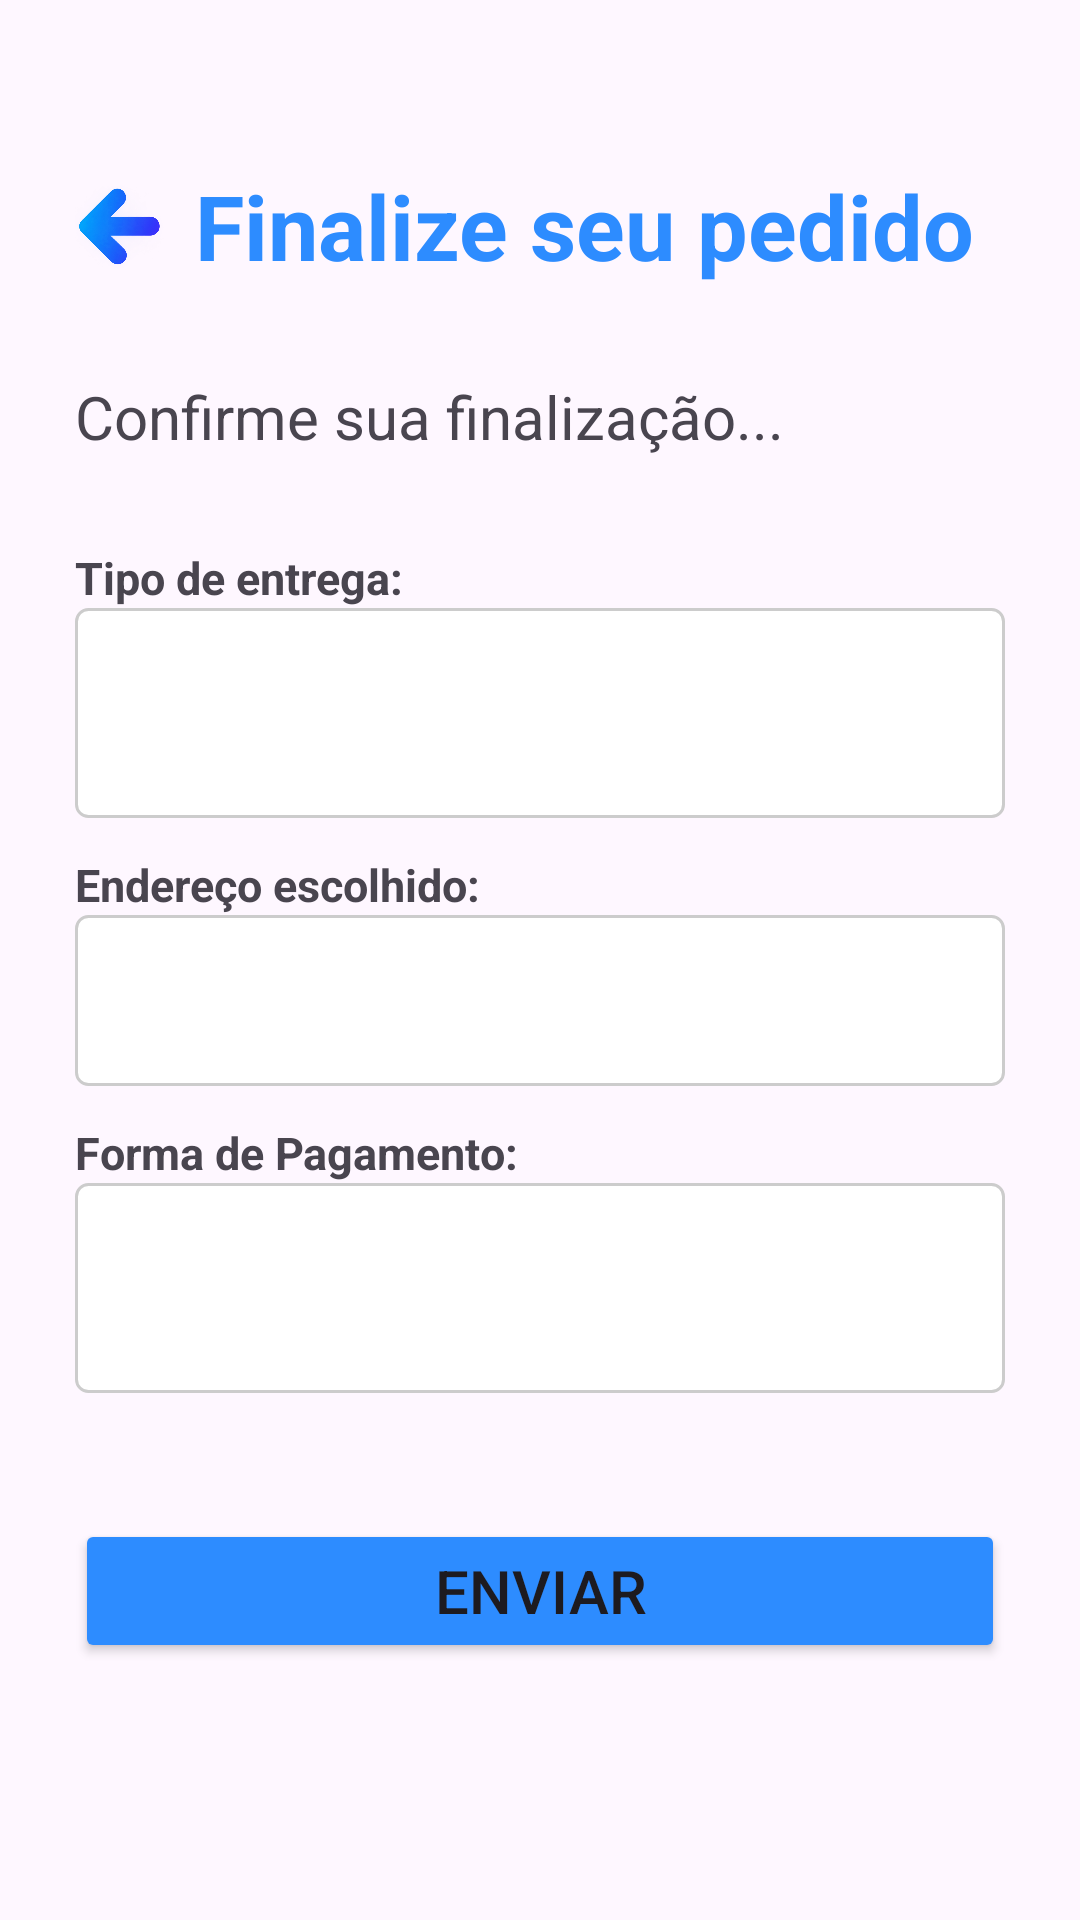

Screen size 1080px x 1920px. Icon name, then its box in pixels as (x1, y1, x2, y2):
seta: (79, 188, 160, 264)
